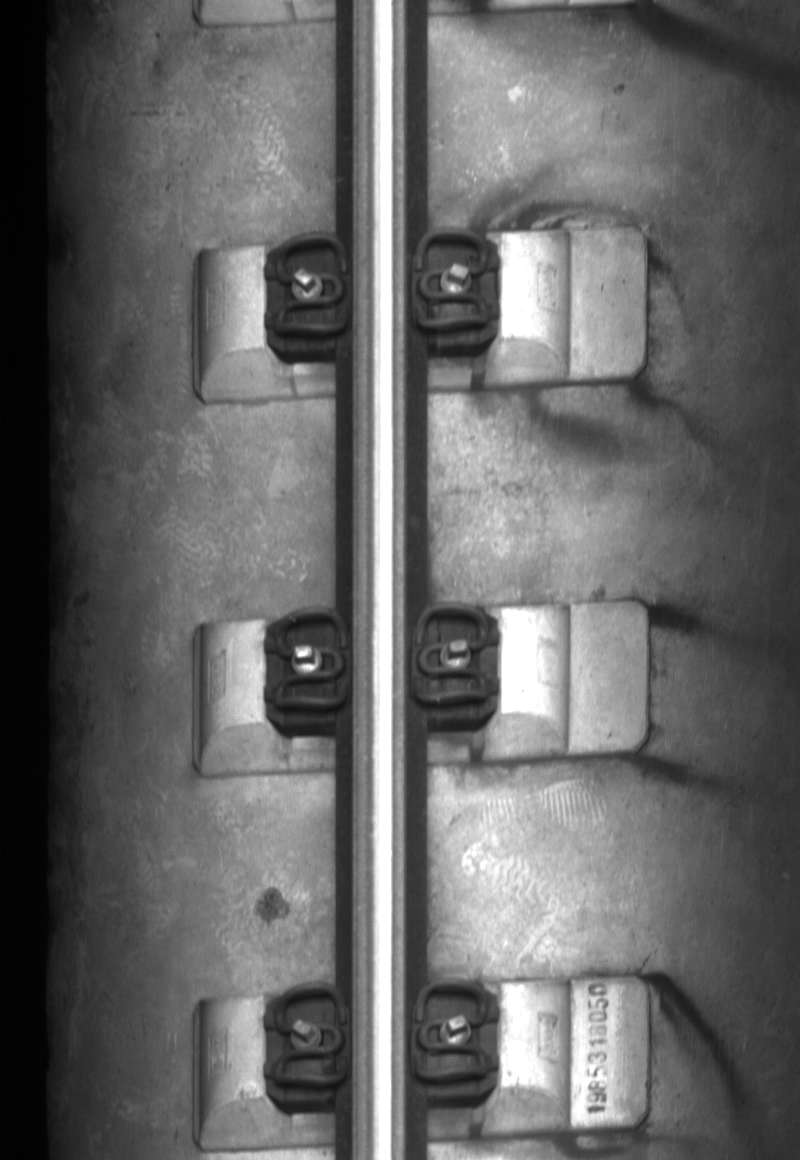l_faster: (268, 977, 351, 1095), (268, 227, 353, 341), (268, 602, 352, 711)
r_faster: (407, 972, 495, 1093), (409, 222, 496, 342), (408, 597, 494, 716)
